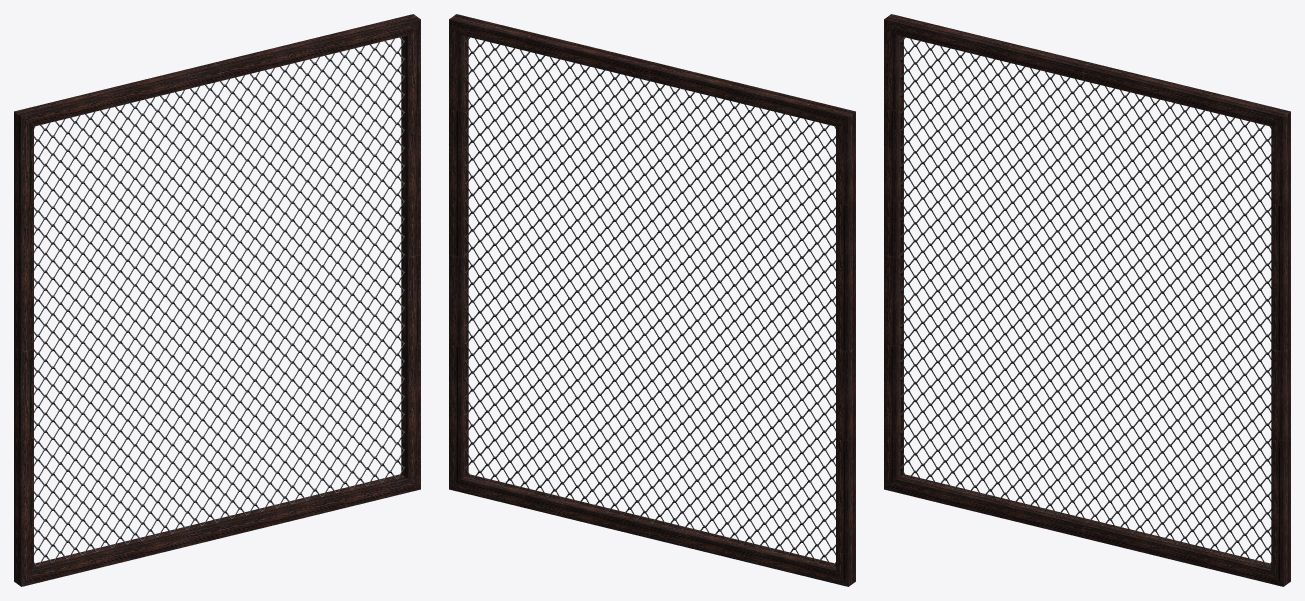
Rendered from M1_ZONE2_CAVE_GATE.glb.
3 renders of one model, left to right at view 1: azimuth 30°, elevation 25°; view 2: azimuth 150°, elevation 25°; view 3: azimuth 330°, elevation 25°, orthographic.
Visible parts, largest first — view 1: M1_ZONE2_CAVE_GATE; view 2: M1_ZONE2_CAVE_GATE; view 3: M1_ZONE2_CAVE_GATE.
Boxes of the visible parts, box(x1,y1,x2,y2) form: M1_ZONE2_CAVE_GATE: box(14, 14, 420, 586); M1_ZONE2_CAVE_GATE: box(449, 14, 855, 586); M1_ZONE2_CAVE_GATE: box(884, 14, 1290, 586).
Bounding box in the file's own units: 2 × 2.25 × 0.063.
Materials: 2 (2 with a texture image).
